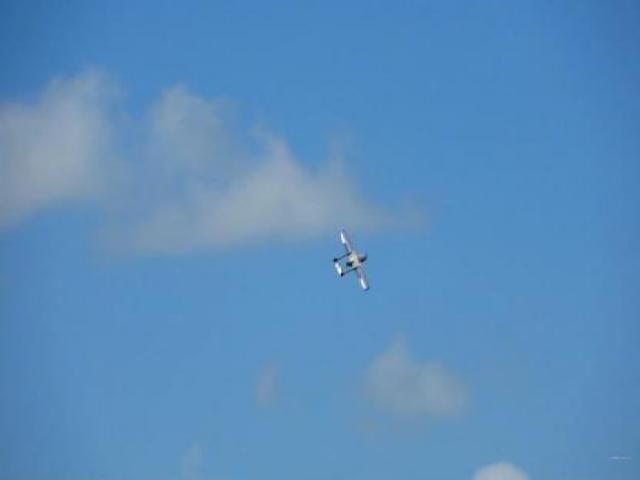uav: (330, 225, 372, 292)
